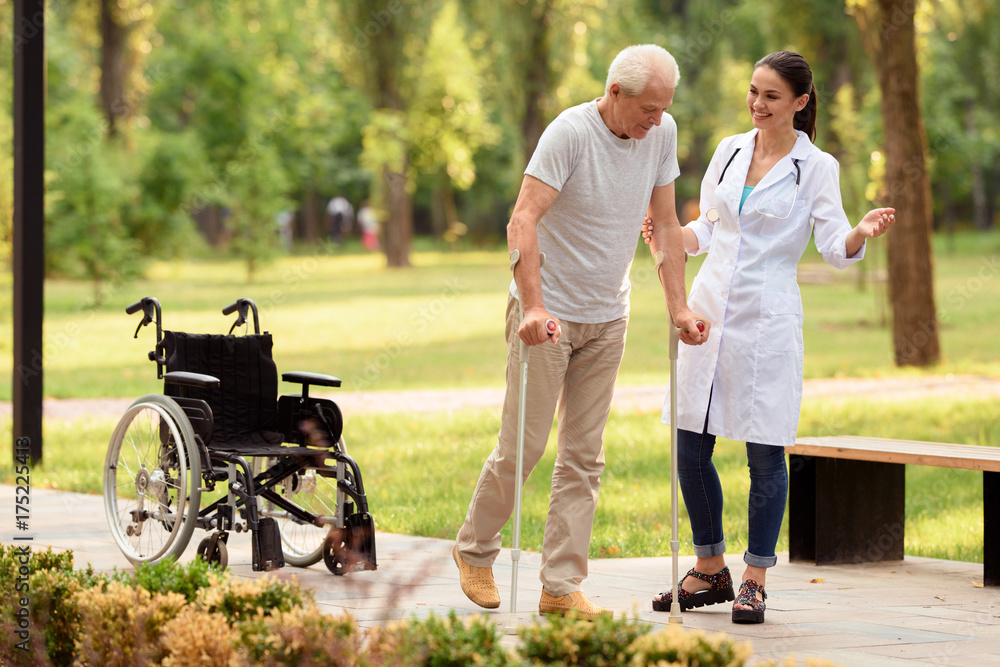crutches: (451, 44, 711, 629)
